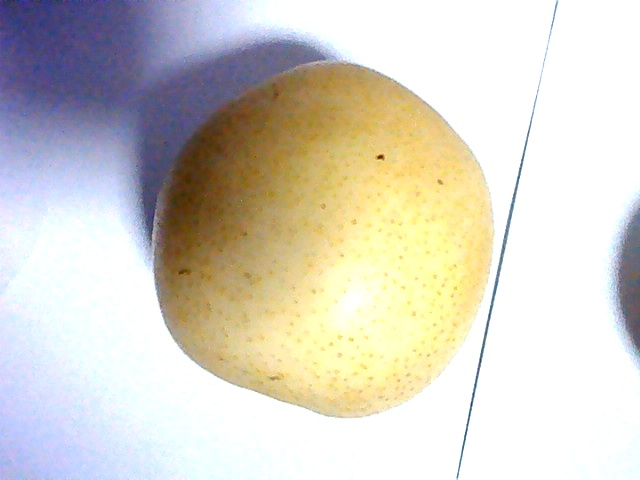pear: (134, 55, 503, 425)
